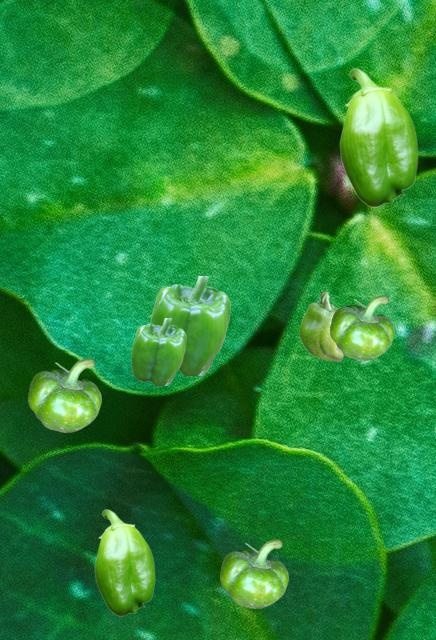bell_pepper: (339, 68, 417, 206), (150, 276, 229, 374), (94, 509, 154, 615), (28, 358, 100, 431), (220, 539, 287, 607), (330, 295, 393, 359), (131, 318, 185, 384), (299, 292, 342, 360)
